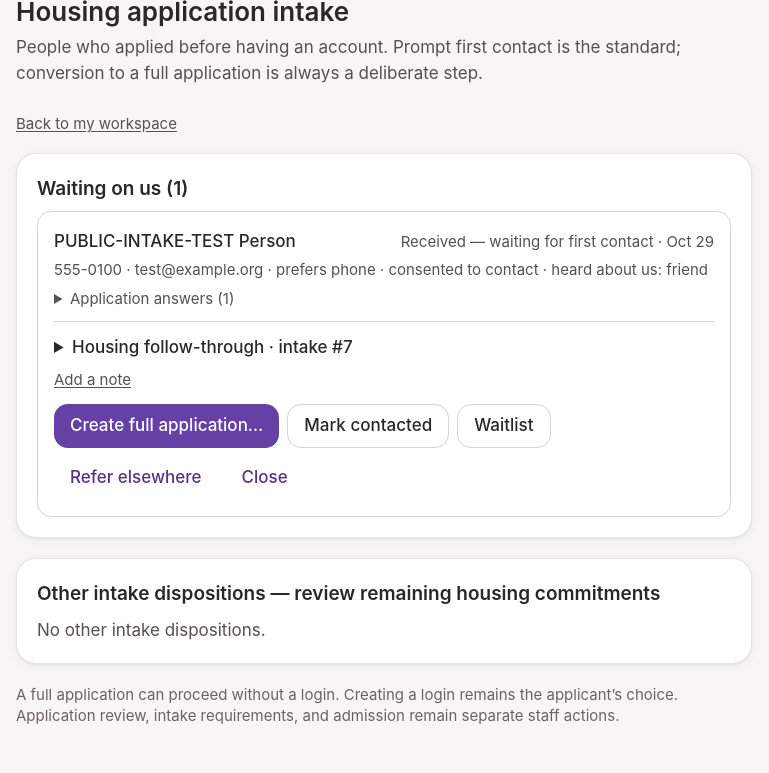
creates an application without signup only after identity confirmation
This screenshot has width=769, height=773.
Click the button "Create full application…".
click(167, 426)  # box [54,404,279,448]
(page scrolled)
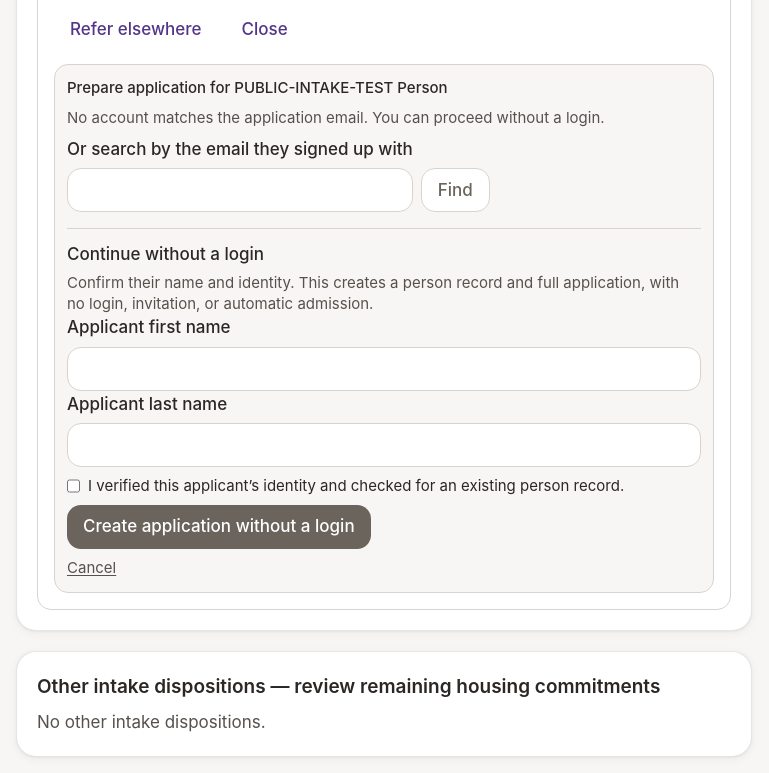
Check: the button "Create application without a login" is disabled, box [67,505,371,549]
Type "Test" into the field labelled "Applicant first name".
click(384, 369); type("Test")  # box [67,347,701,391]
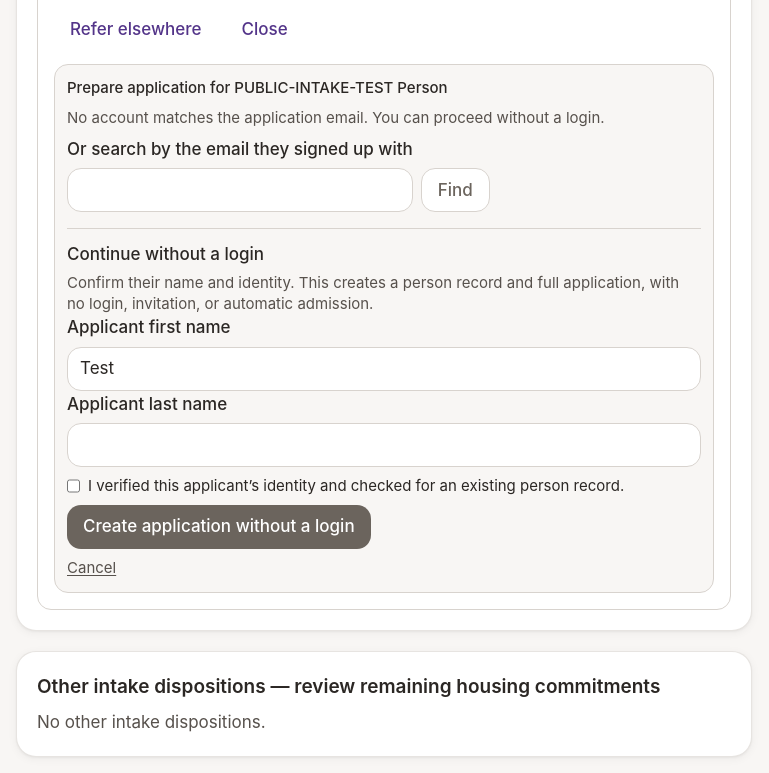
Type "Person" into the field labelled "Applicant last name".
click(384, 445); type("Person")  # box [67,423,701,467]
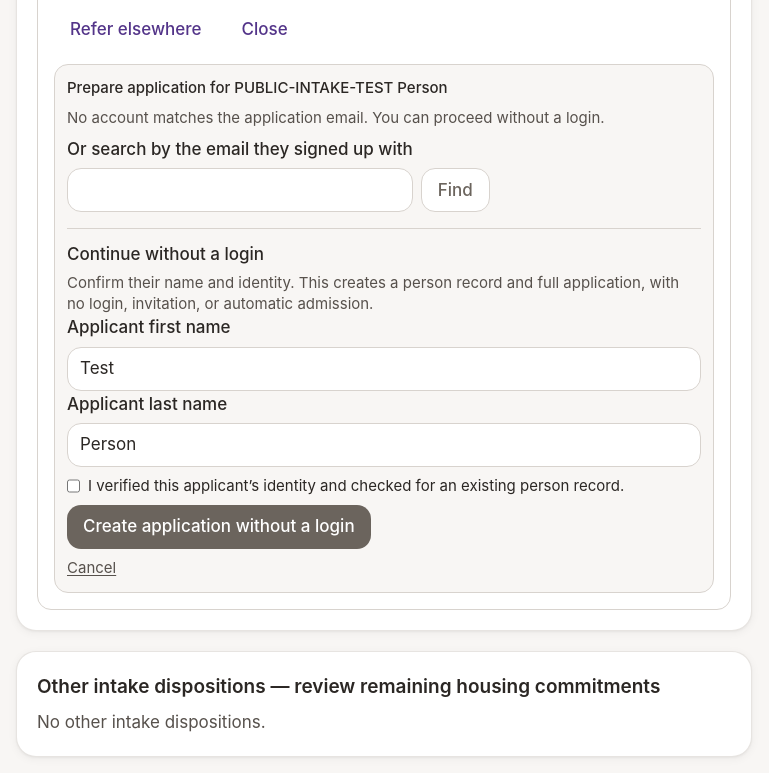
Check: the button "Create application without a login" is disabled, box [67,505,371,549]
Click the checkbox labelled "I verified this applicant".
click(74, 486)  # box [67,475,80,497]
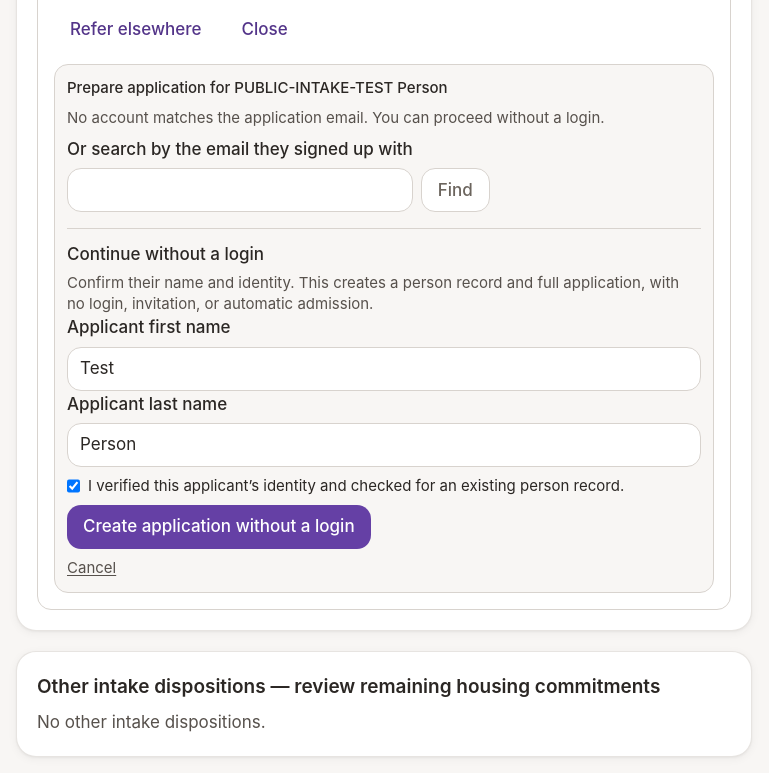
Click the button "Create application without a login".
click(219, 527)  # box [67,505,371,549]
(page scrolled)
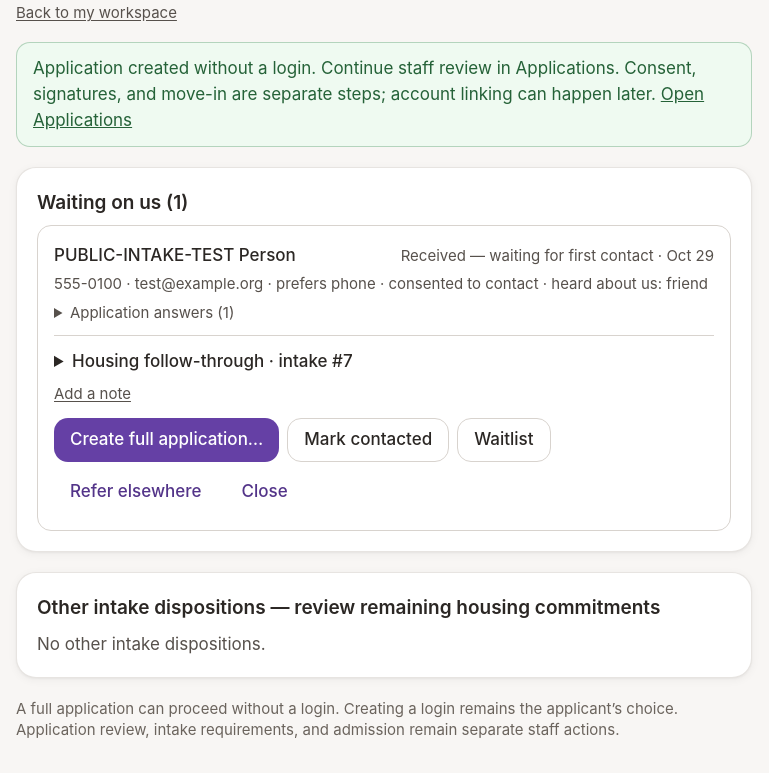
Check: the text "Application created without a login" is shown, box [33,58,696,104]
